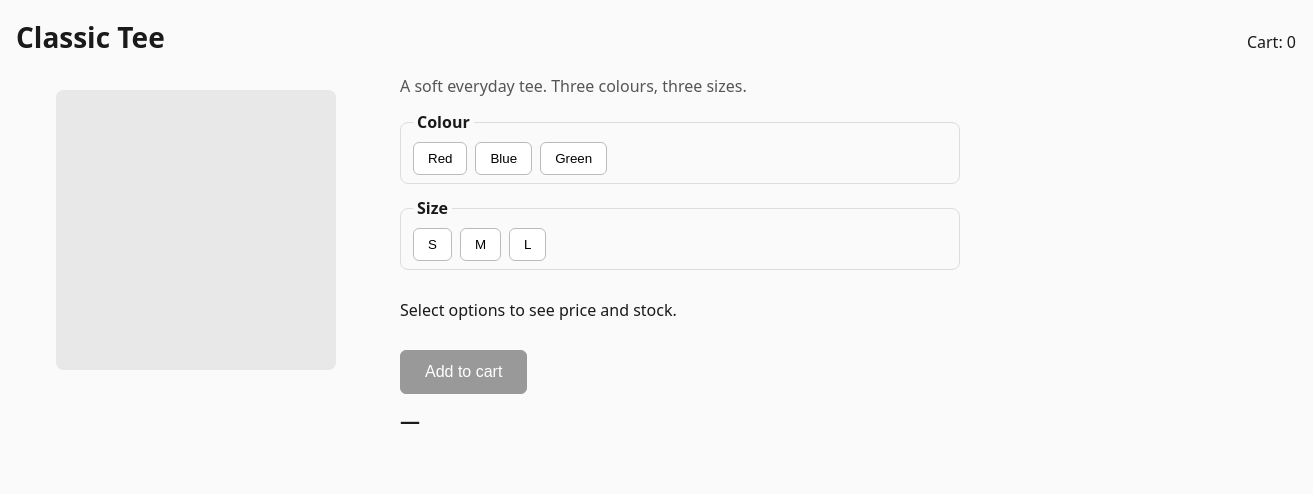
Test case: APP-FE-1: variant resolution › selecting Red+S updates price and stock
expect the heading "Classic Tee" is shown: met, box [16,16,165,58]
What coordinates should you click on to do the following:
click the button "Red"
I would click on:
 (440, 158)
Its box is [413,142,468,175].
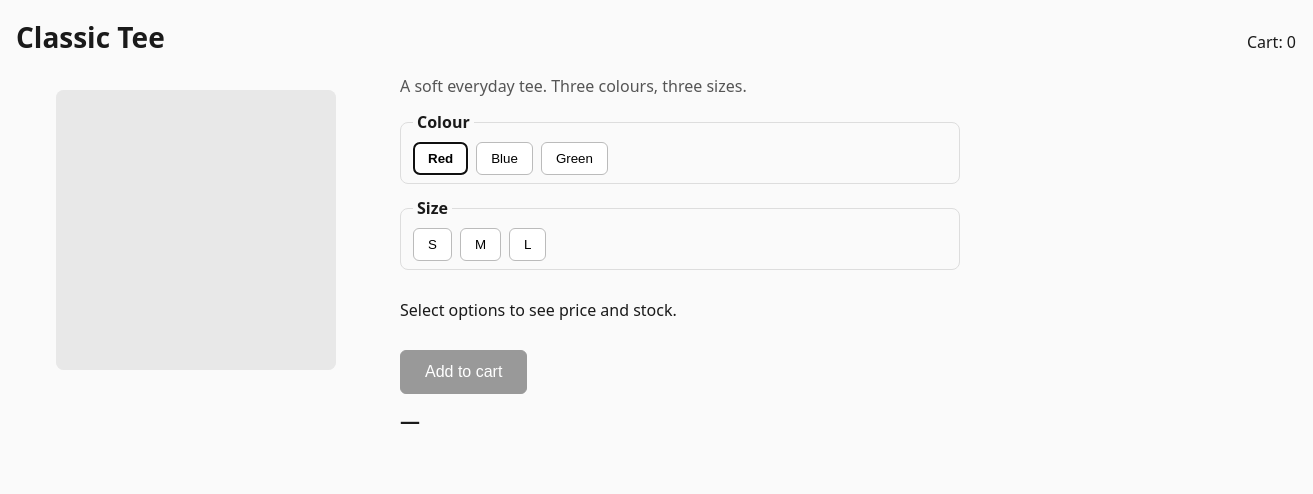
What coordinates should you click on to do the following:
click the button "S"
I would click on:
 (432, 244)
Its box is [413,228,452,261].
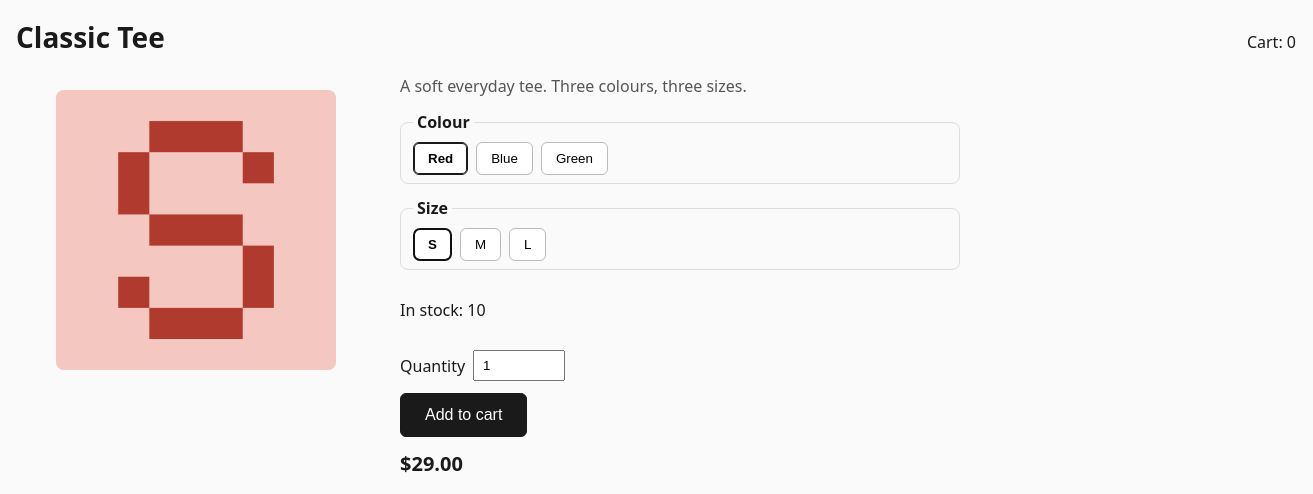
expect the text "In stock: 10" is shown: met, box [400,299,486,321]
expect the text "$29.00" is shown: met, box [400,450,463,477]
